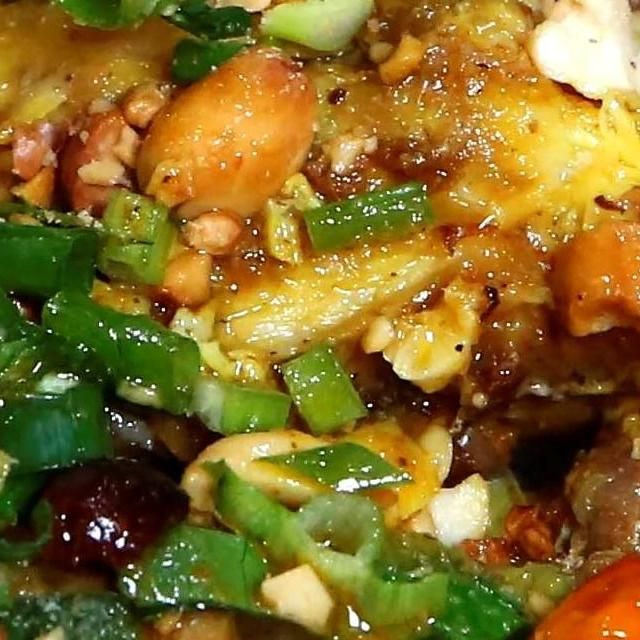ca: (0, 0, 640, 442)
